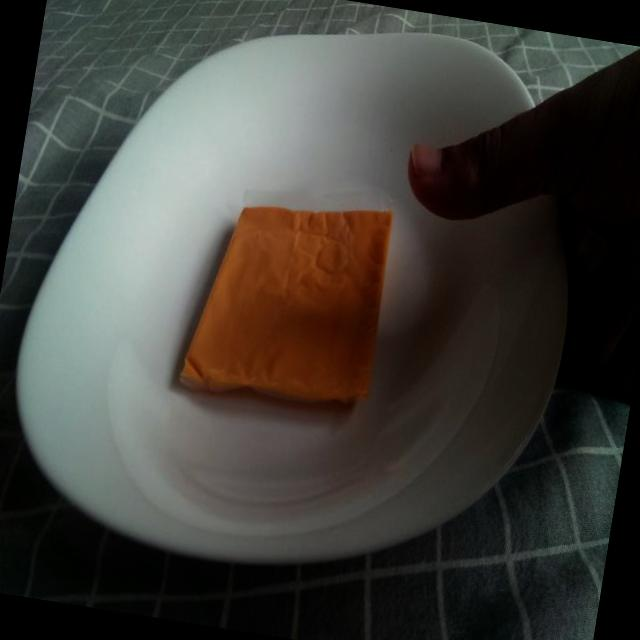Cheese: (170, 176, 401, 428)
Finger: (395, 97, 513, 230)
